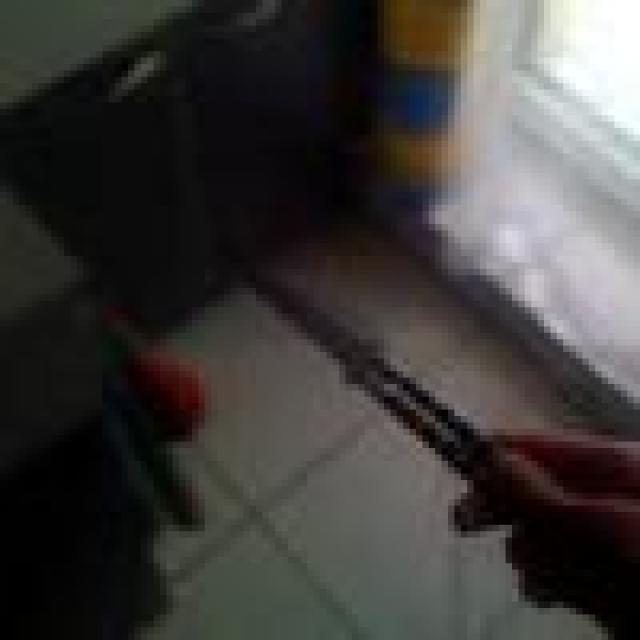knife: (244, 260, 488, 476)
